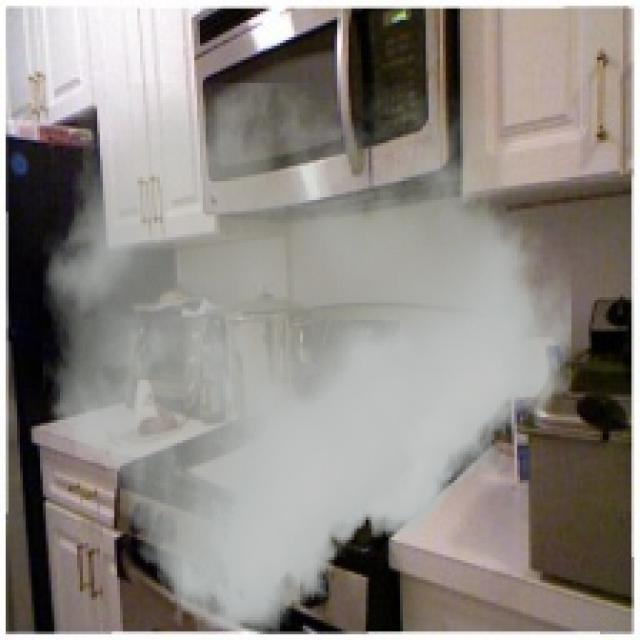Smoke: (42, 82, 572, 634)
